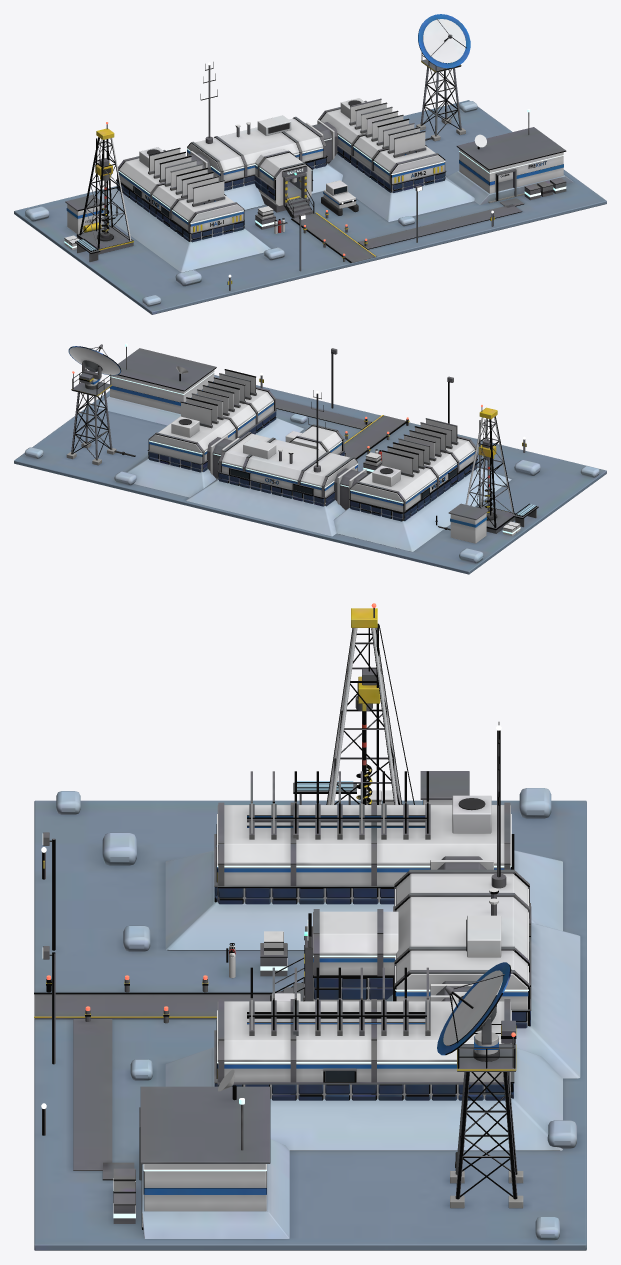
Rendered from outpost.glb.
The picture shows the model from 3 angles, top to bottom: view 1: azimuth 30°, elevation 25°; view 2: azimuth 150°, elevation 25°; view 3: azimuth 270°, elevation 25°; orthographic projection. The views are drawn at different scales.
Visible parts, largest first — view 1: hull, spin.y.6.0, lights; view 2: hull, spin.y.6.0, lights, glass; view 3: hull, spin.y.6.0, lights.
Boxes of the visible parts, x1,y1,x2,y2 form: hull: [14, 52, 606, 314]; spin.y.6.0: [418, 14, 470, 68]; lights: [106, 62, 530, 277]; hull: [14, 346, 606, 574]; spin.y.6.0: [68, 344, 121, 385]; lights: [72, 343, 525, 503]; glass: [230, 469, 456, 498]; hull: [34, 608, 586, 1250]; spin.y.6.0: [437, 962, 516, 1055]; lights: [41, 603, 528, 1108].
Size of the model in its own units: 43 by 11.32 by 22.61.
28 materials, 21 textured.
